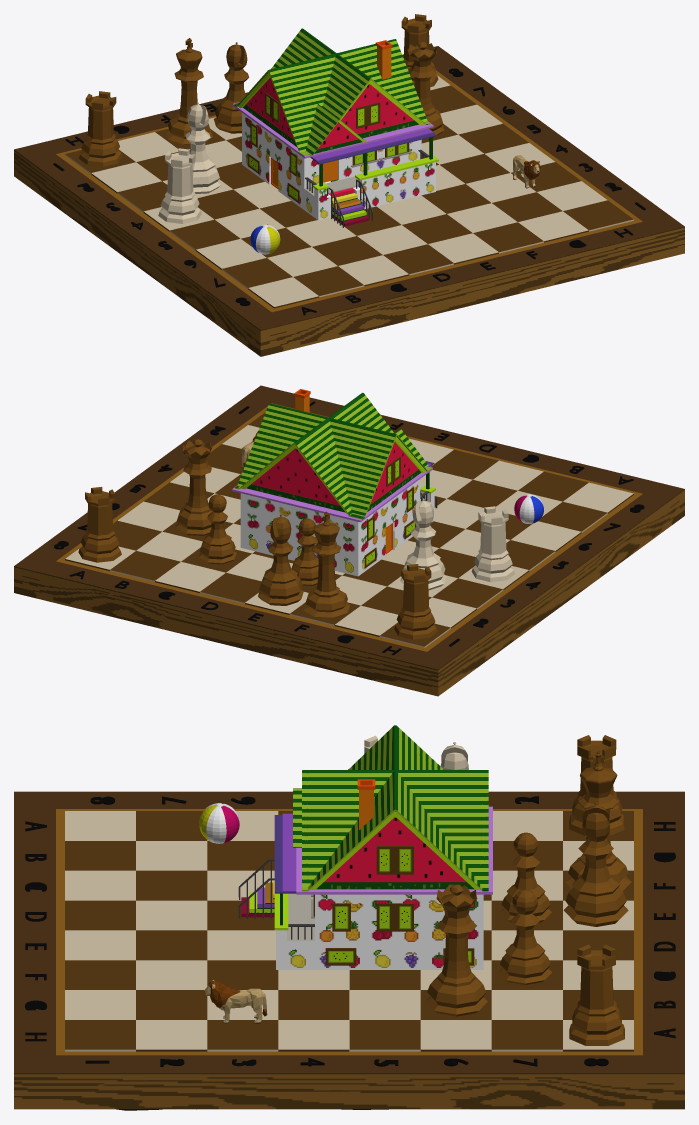
The picture shows the model from 3 angles, top to bottom: view 1: azimuth 30°, elevation 25°; view 2: azimuth 150°, elevation 25°; view 3: azimuth 270°, elevation 25°; orthographic projection. The views are drawn at different scales.
Visible parts, largest first — view 1: Cube.002, Cube.1063, OBJRANDOM_BEACHBALL, ANIMAL_LEON; view 2: Cube.002, Cube.1063, OBJRANDOM_BEACHBALL; view 3: Cube.002, Cube.1063, ANIMAL_LEON, OBJRANDOM_BEACHBALL.
Boxes of the visible parts, bbox=[...] form: Cube.002: bbox=[14, 14, 684, 356]; Cube.1063: bbox=[232, 28, 438, 227]; OBJRANDOM_BEACHBALL: bbox=[250, 224, 280, 254]; ANIMAL_LEON: bbox=[513, 155, 540, 188]; Cube.002: bbox=[14, 385, 684, 696]; Cube.1063: bbox=[232, 389, 437, 576]; OBJRANDOM_BEACHBALL: bbox=[514, 494, 543, 523]; Cube.002: bbox=[14, 735, 684, 1109]; Cube.1063: bbox=[238, 725, 492, 969]; ANIMAL_LEON: bbox=[204, 980, 267, 1023]; OBJRANDOM_BEACHBALL: bbox=[199, 803, 239, 843].
Bounding box in the file's own units: 3981 × 1457 × 4012.
26 materials, 4 textured.
